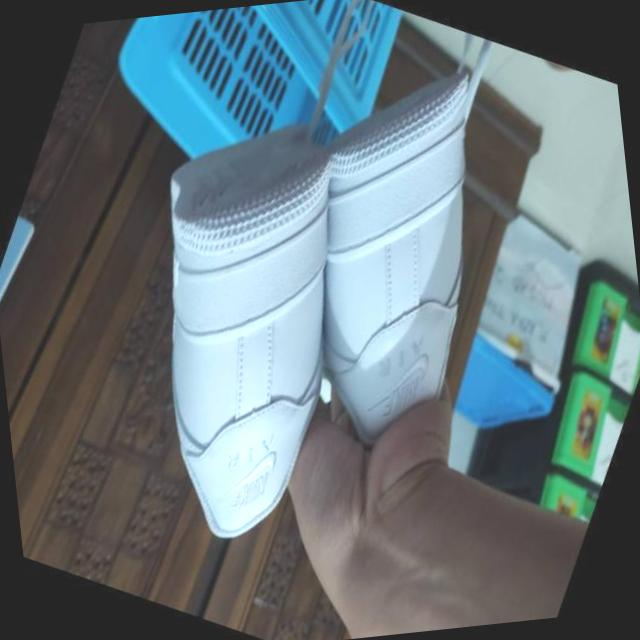nike_original_airforce: (14, 63, 447, 580), (202, 22, 584, 493)
